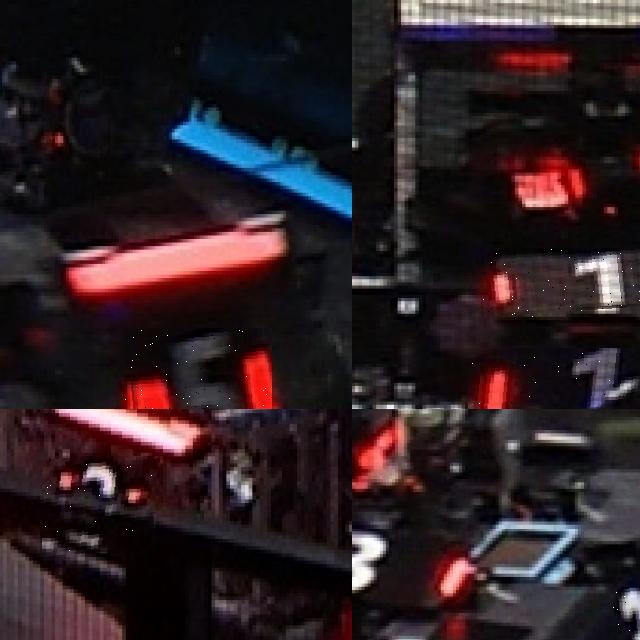R1: (479, 248, 640, 317), (468, 348, 640, 409)
R2: (42, 456, 161, 557)
R3: (605, 586, 640, 640)
R5: (124, 328, 272, 409)
